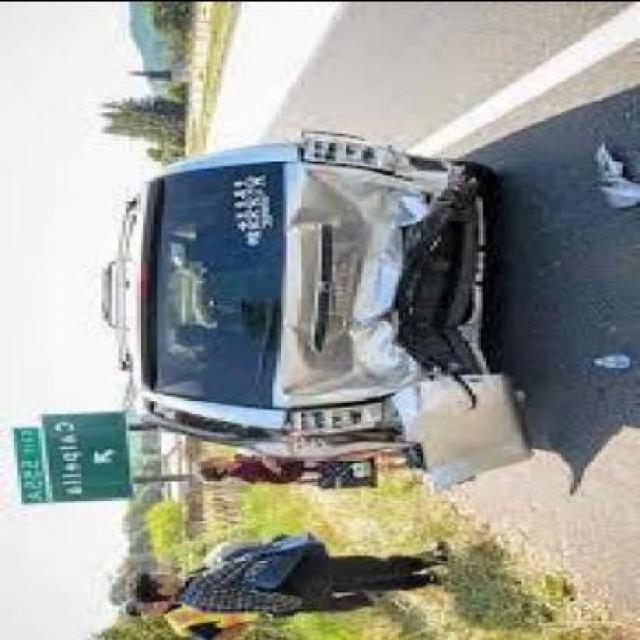damage: (143, 128, 536, 488)
